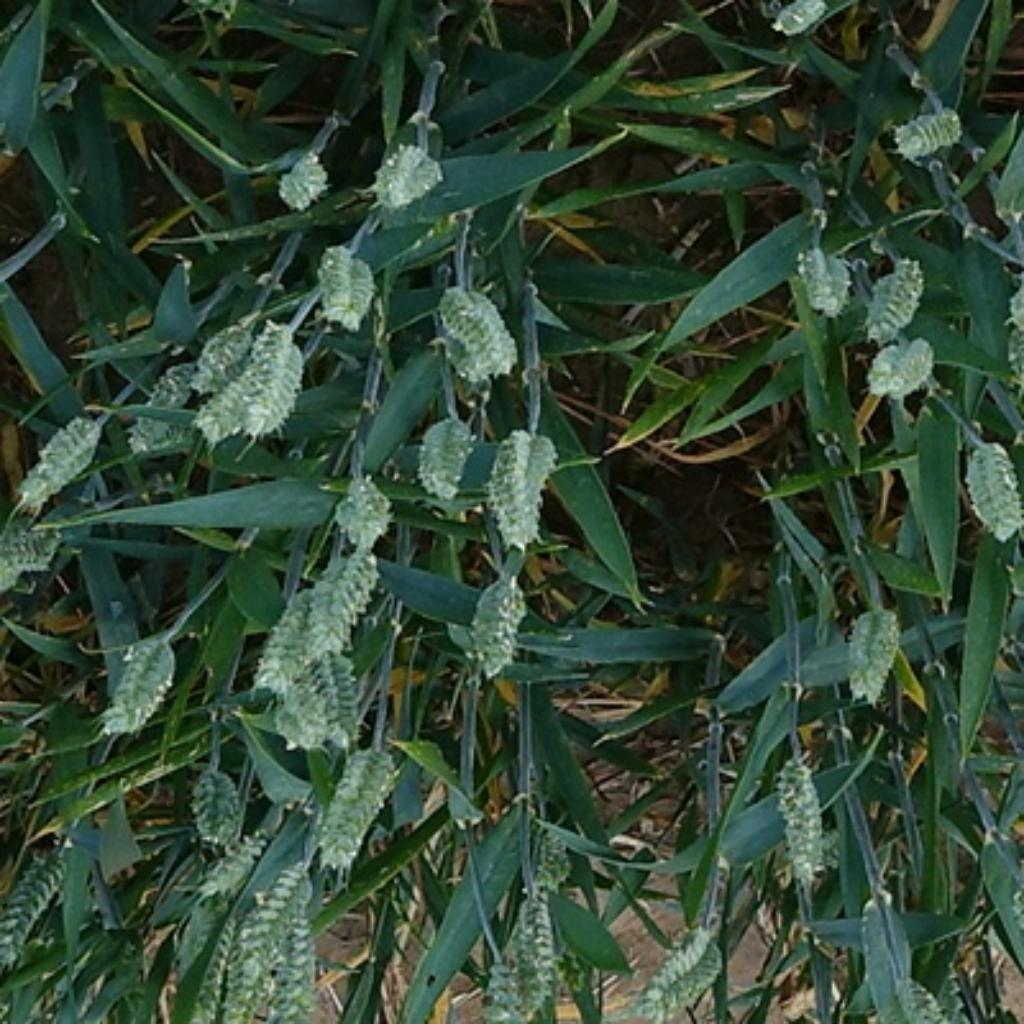0-0: (196, 320, 316, 448), (481, 852, 563, 1018), (2, 824, 97, 967), (307, 739, 404, 862), (226, 862, 307, 1008), (261, 637, 371, 744), (422, 273, 524, 384), (294, 540, 381, 668), (10, 401, 107, 509), (481, 419, 558, 555), (261, 573, 348, 691), (94, 622, 184, 734), (765, 739, 834, 883), (634, 913, 729, 1016), (455, 565, 532, 675), (128, 355, 204, 465), (834, 591, 908, 696), (954, 432, 1024, 540), (196, 871, 245, 1023), (164, 306, 254, 388), (270, 896, 328, 1022), (363, 130, 450, 212), (304, 235, 381, 327), (179, 757, 253, 847), (857, 250, 931, 337), (883, 97, 975, 166), (783, 238, 855, 320), (256, 343, 309, 450), (860, 332, 942, 401), (882, 955, 963, 1024), (409, 412, 473, 499), (0, 507, 67, 589), (327, 473, 396, 547), (266, 143, 330, 209), (765, 0, 842, 40), (1001, 269, 1024, 394)
